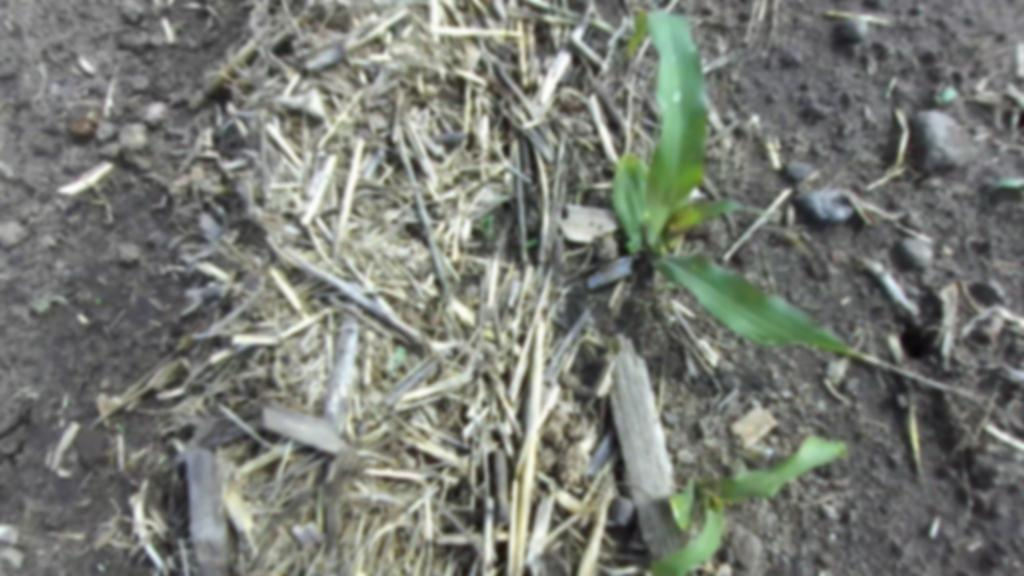BroWeed: (758, 210, 824, 259), (731, 438, 777, 472), (382, 343, 409, 377), (931, 82, 959, 109), (767, 206, 785, 226), (483, 213, 495, 241), (111, 420, 128, 436), (786, 202, 795, 229), (478, 212, 493, 227), (480, 225, 496, 239), (624, 240, 637, 255), (156, 453, 168, 466), (525, 237, 538, 248), (94, 297, 102, 305)
Maize: (618, 388, 854, 576)
